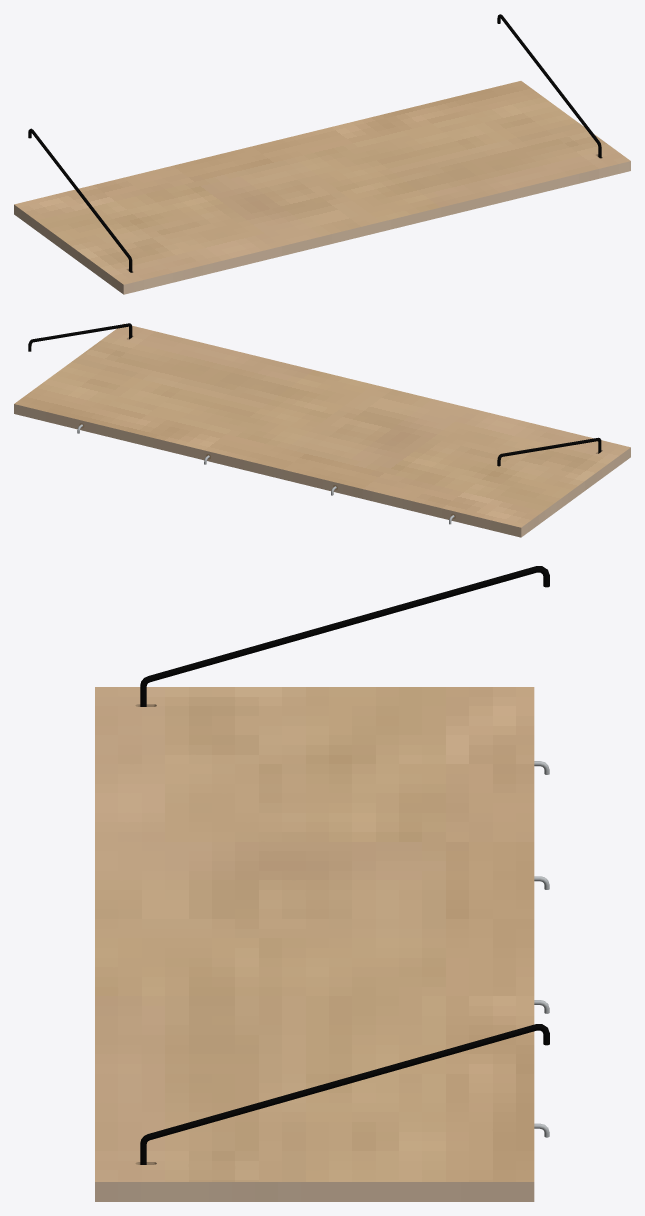
Rendered from board80x30_t2.glb.
3 renders of one model, top to bottom at view 1: azimuth 30°, elevation 25°; view 2: azimuth 150°, elevation 25°; view 3: azimuth 270°, elevation 25°, orthographic. The views are drawn at different scales.
Visible parts, largest first — view 1: Geom3D (×2), Geom3D_ (×2); view 2: Geom3D (×2), Geom3D_ (×2); view 3: Geom3D (×2), Geom3D_ (×2).
Part boxes in pixels (bbox=[...]): Geom3D (×2): bbox=[14, 81, 630, 294]; Geom3D_ (×2): bbox=[28, 14, 601, 272]; Geom3D (×2): bbox=[14, 323, 630, 537]; Geom3D_ (×2): bbox=[28, 323, 601, 466]; Geom3D (×2): bbox=[95, 687, 534, 1201]; Geom3D_ (×2): bbox=[140, 566, 549, 1164].
Size of the model in its own units: 0.8 by 0.1205 by 0.3108.
4 materials, 3 textured.
